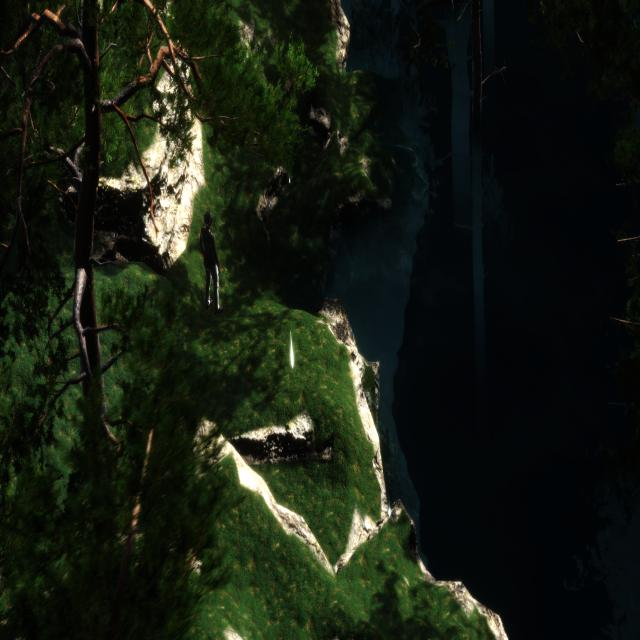Human: (195, 207, 225, 324)
